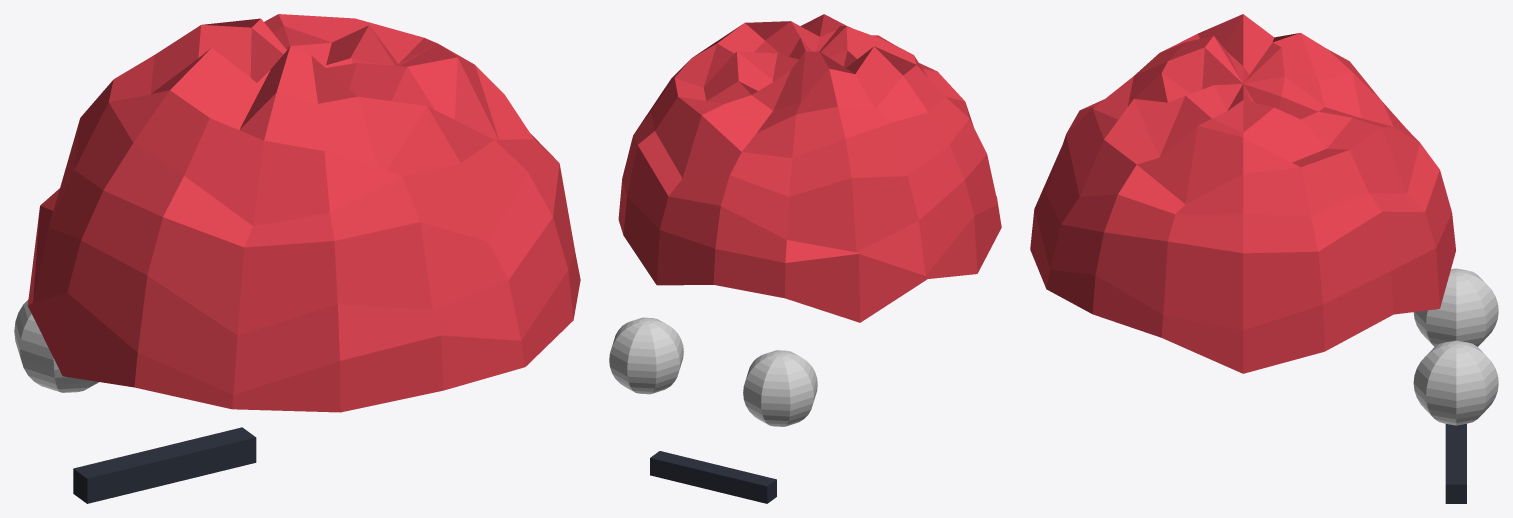
The model's file is PlayerHat.fbx.
The picture shows the model from 3 angles, left to right: view 1: azimuth 30°, elevation 25°; view 2: azimuth 150°, elevation 25°; view 3: azimuth 270°, elevation 25°; orthographic projection. The views are drawn at different scales.
Visible parts, largest first — view 1: Sphere, Cube, Sphere.002; view 2: Sphere, Sphere.002, Sphere.001, Cube; view 3: Sphere, Sphere.001, Sphere.002, Cube.
Part boxes in pixels (bbox=[...]): Sphere: bbox=[27, 14, 580, 412]; Cube: bbox=[73, 427, 256, 503]; Sphere.002: bbox=[14, 299, 98, 392]; Sphere: bbox=[618, 14, 1001, 322]; Sphere.002: bbox=[743, 350, 817, 426]; Sphere.001: bbox=[609, 317, 683, 394]; Cube: bbox=[650, 451, 776, 503]; Sphere: bbox=[1030, 14, 1455, 373]; Sphere.001: bbox=[1413, 340, 1498, 425]; Sphere.002: bbox=[1413, 268, 1498, 346]; Cube: bbox=[1445, 423, 1466, 503].
Bounding box in the file's own units: 200 × 220 × 220.
